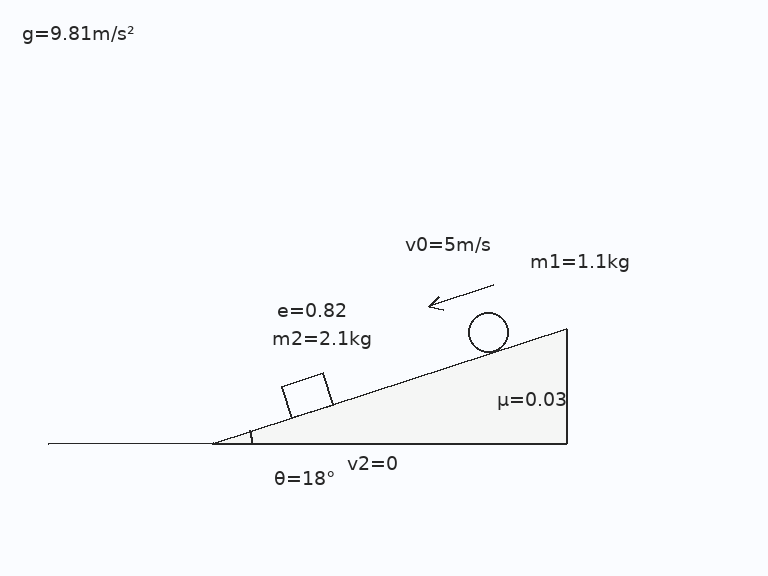ball: (466, 310, 510, 354)
block: (279, 371, 335, 419)
ramp: (210, 326, 568, 445)
